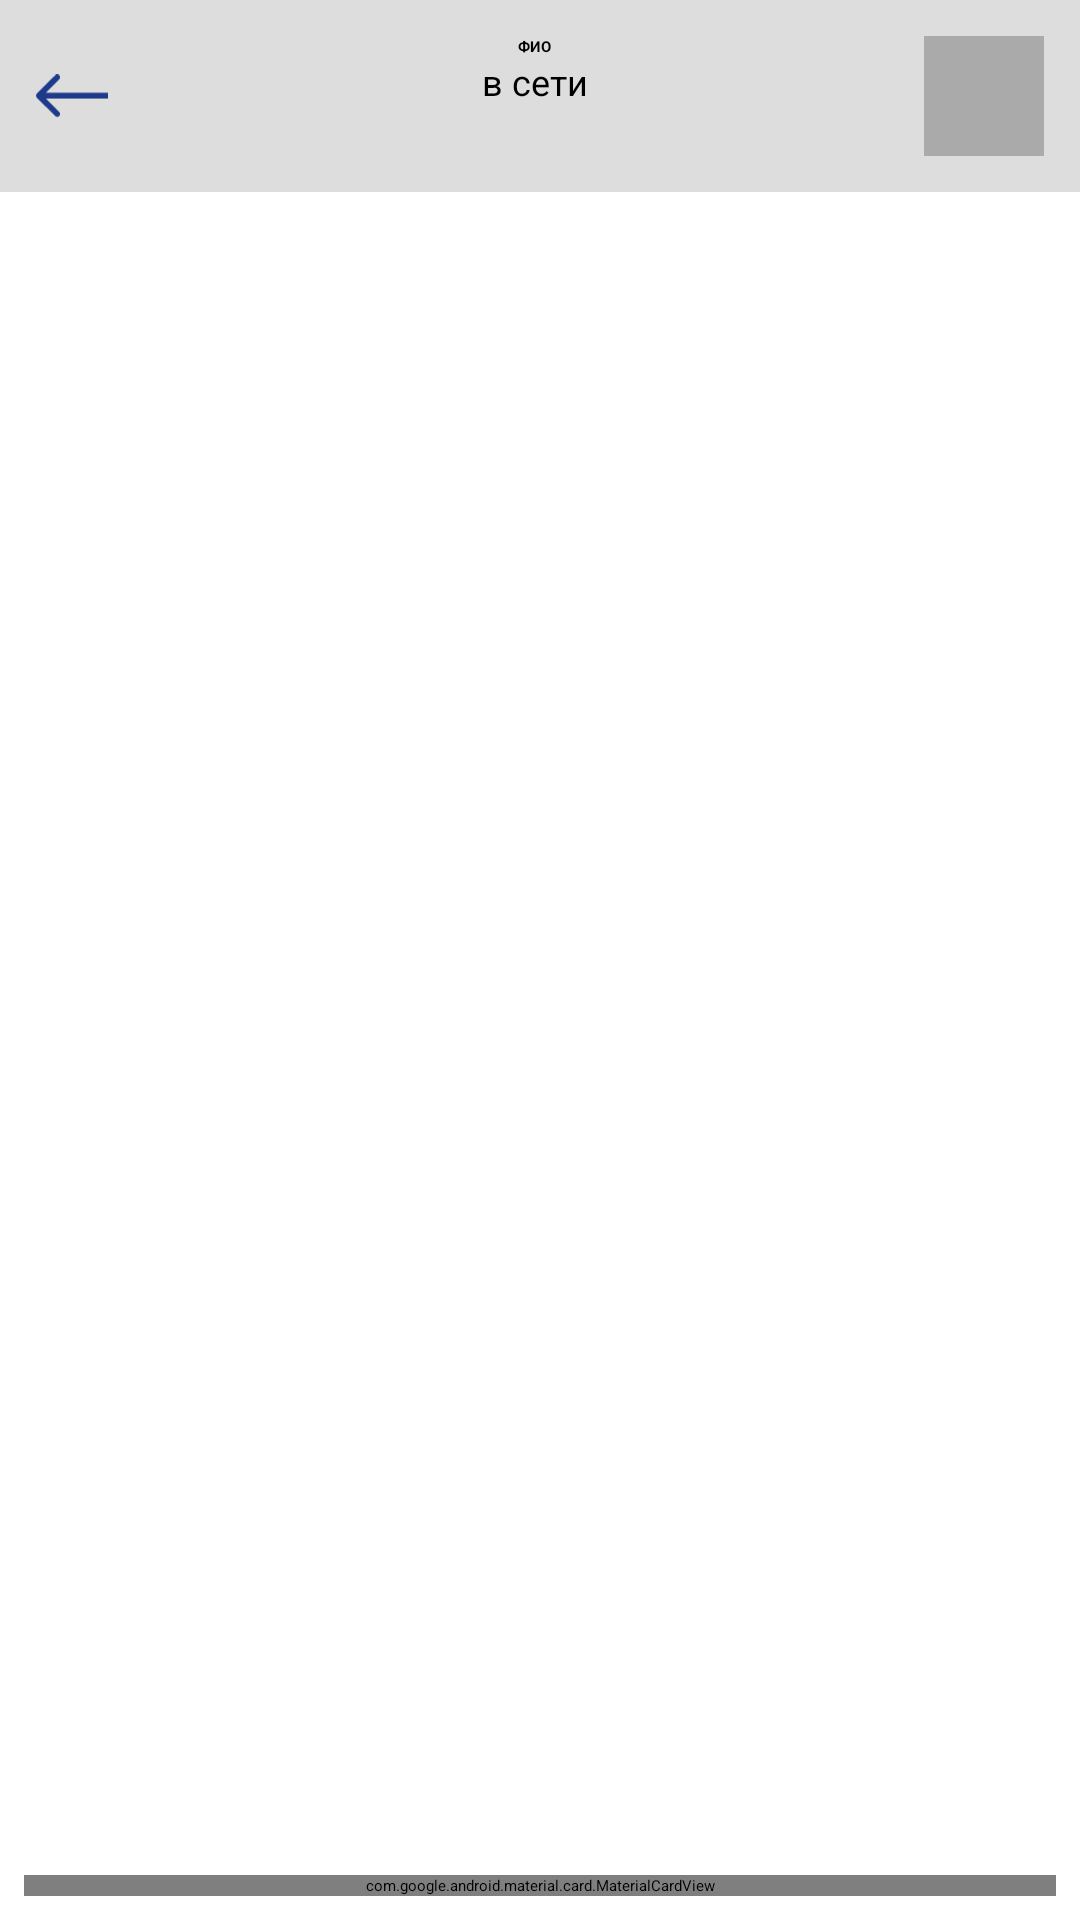

Named icons in this screenshot (1080*1920) and their bounding boxes, (x1, y1, x2, y2):
arrow left: (36, 74, 108, 118)
